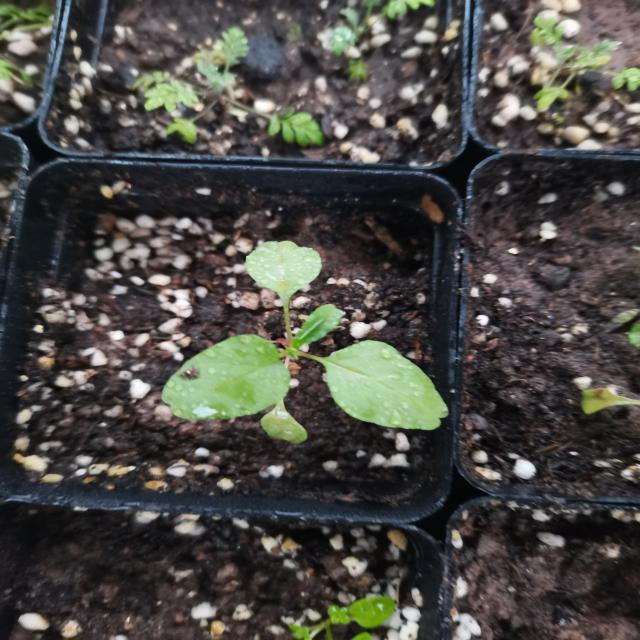pigweed: (162, 230, 438, 452)
